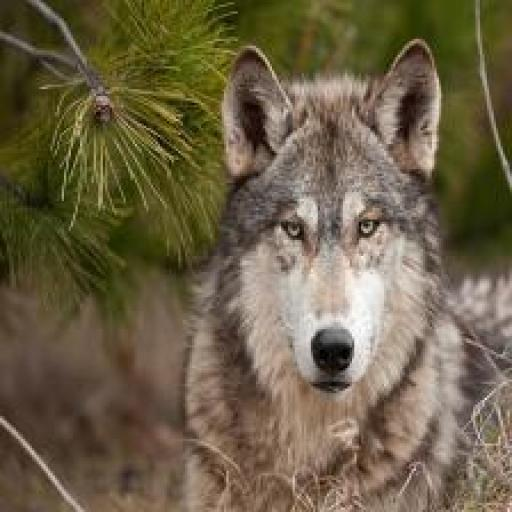wolf: (171, 34, 512, 510)
